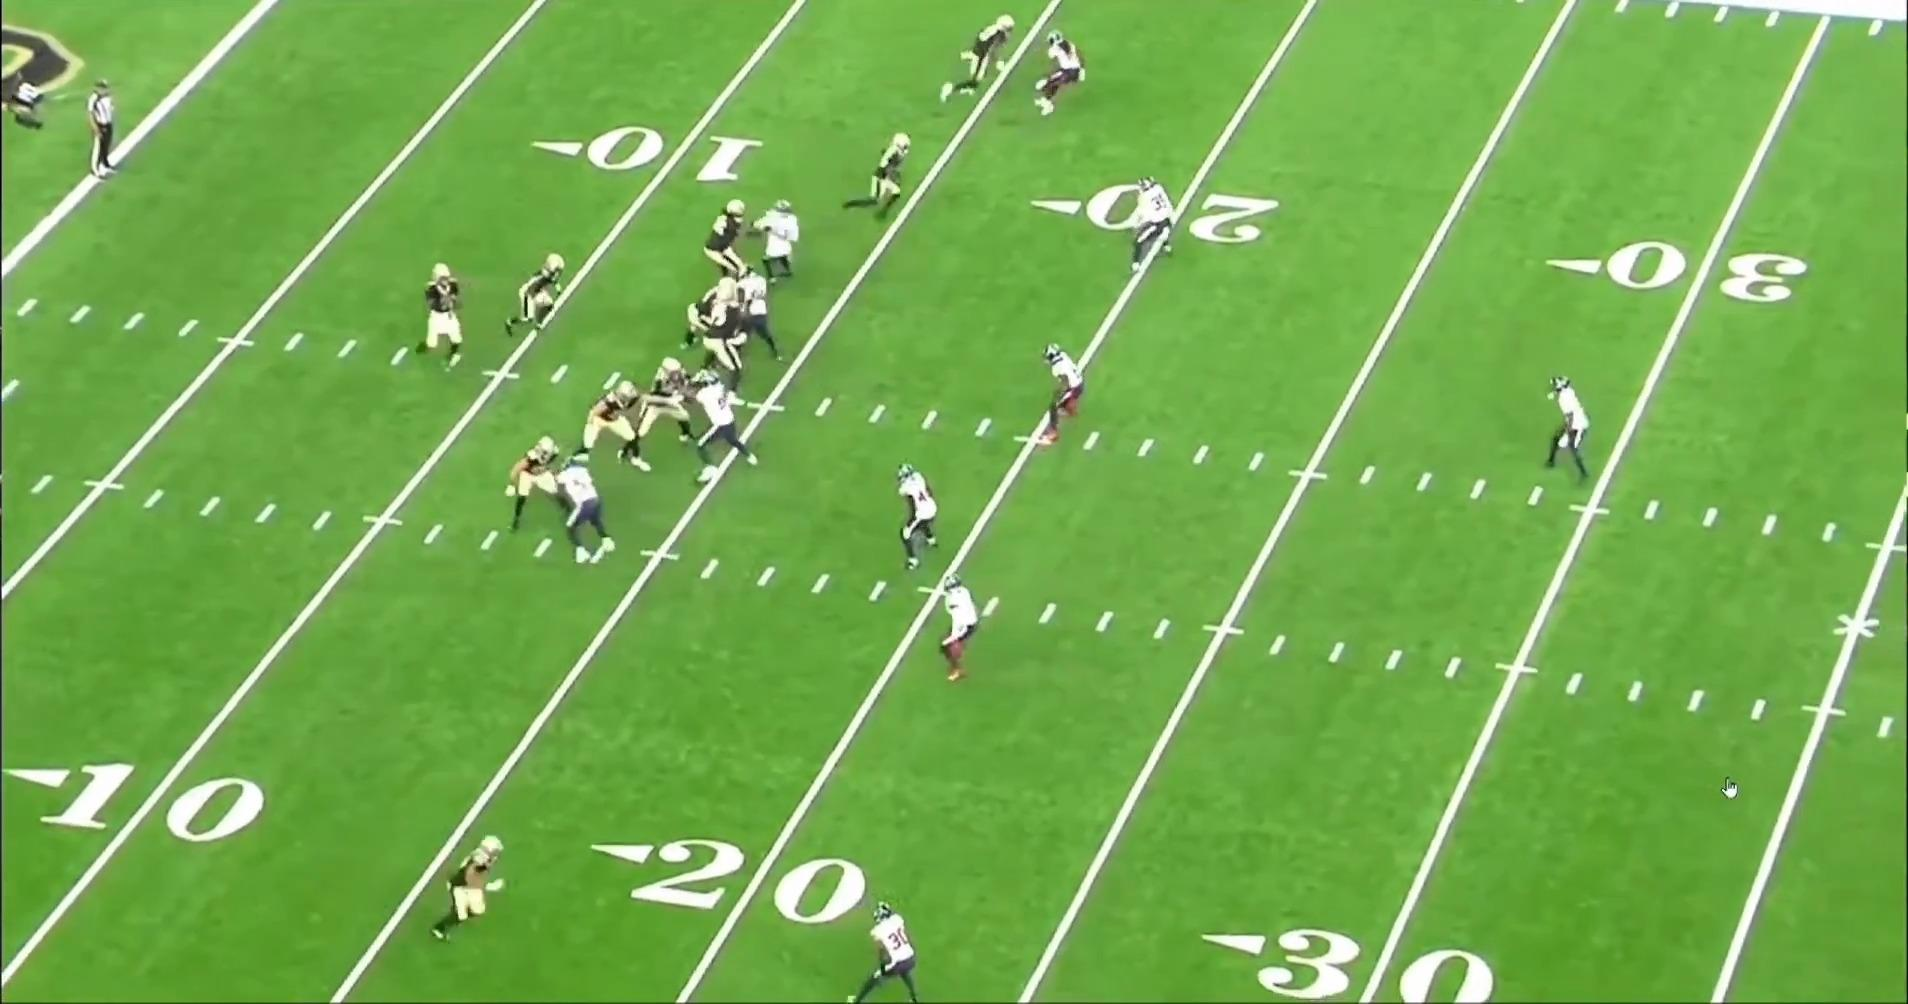player: (425, 828, 511, 948), (684, 373, 763, 483), (934, 11, 1018, 111), (849, 904, 929, 1004), (573, 376, 653, 474), (545, 457, 613, 571), (847, 125, 922, 221), (408, 256, 467, 372), (496, 430, 560, 534), (1125, 174, 1182, 281), (1042, 339, 1096, 451), (699, 295, 758, 397), (1545, 375, 1598, 488), (934, 570, 985, 687), (729, 262, 786, 364), (894, 460, 945, 574), (502, 251, 565, 343), (1037, 26, 1096, 117), (688, 274, 746, 363), (643, 357, 698, 448), (706, 198, 761, 285), (747, 199, 799, 289)
ref: (81, 76, 123, 186)
